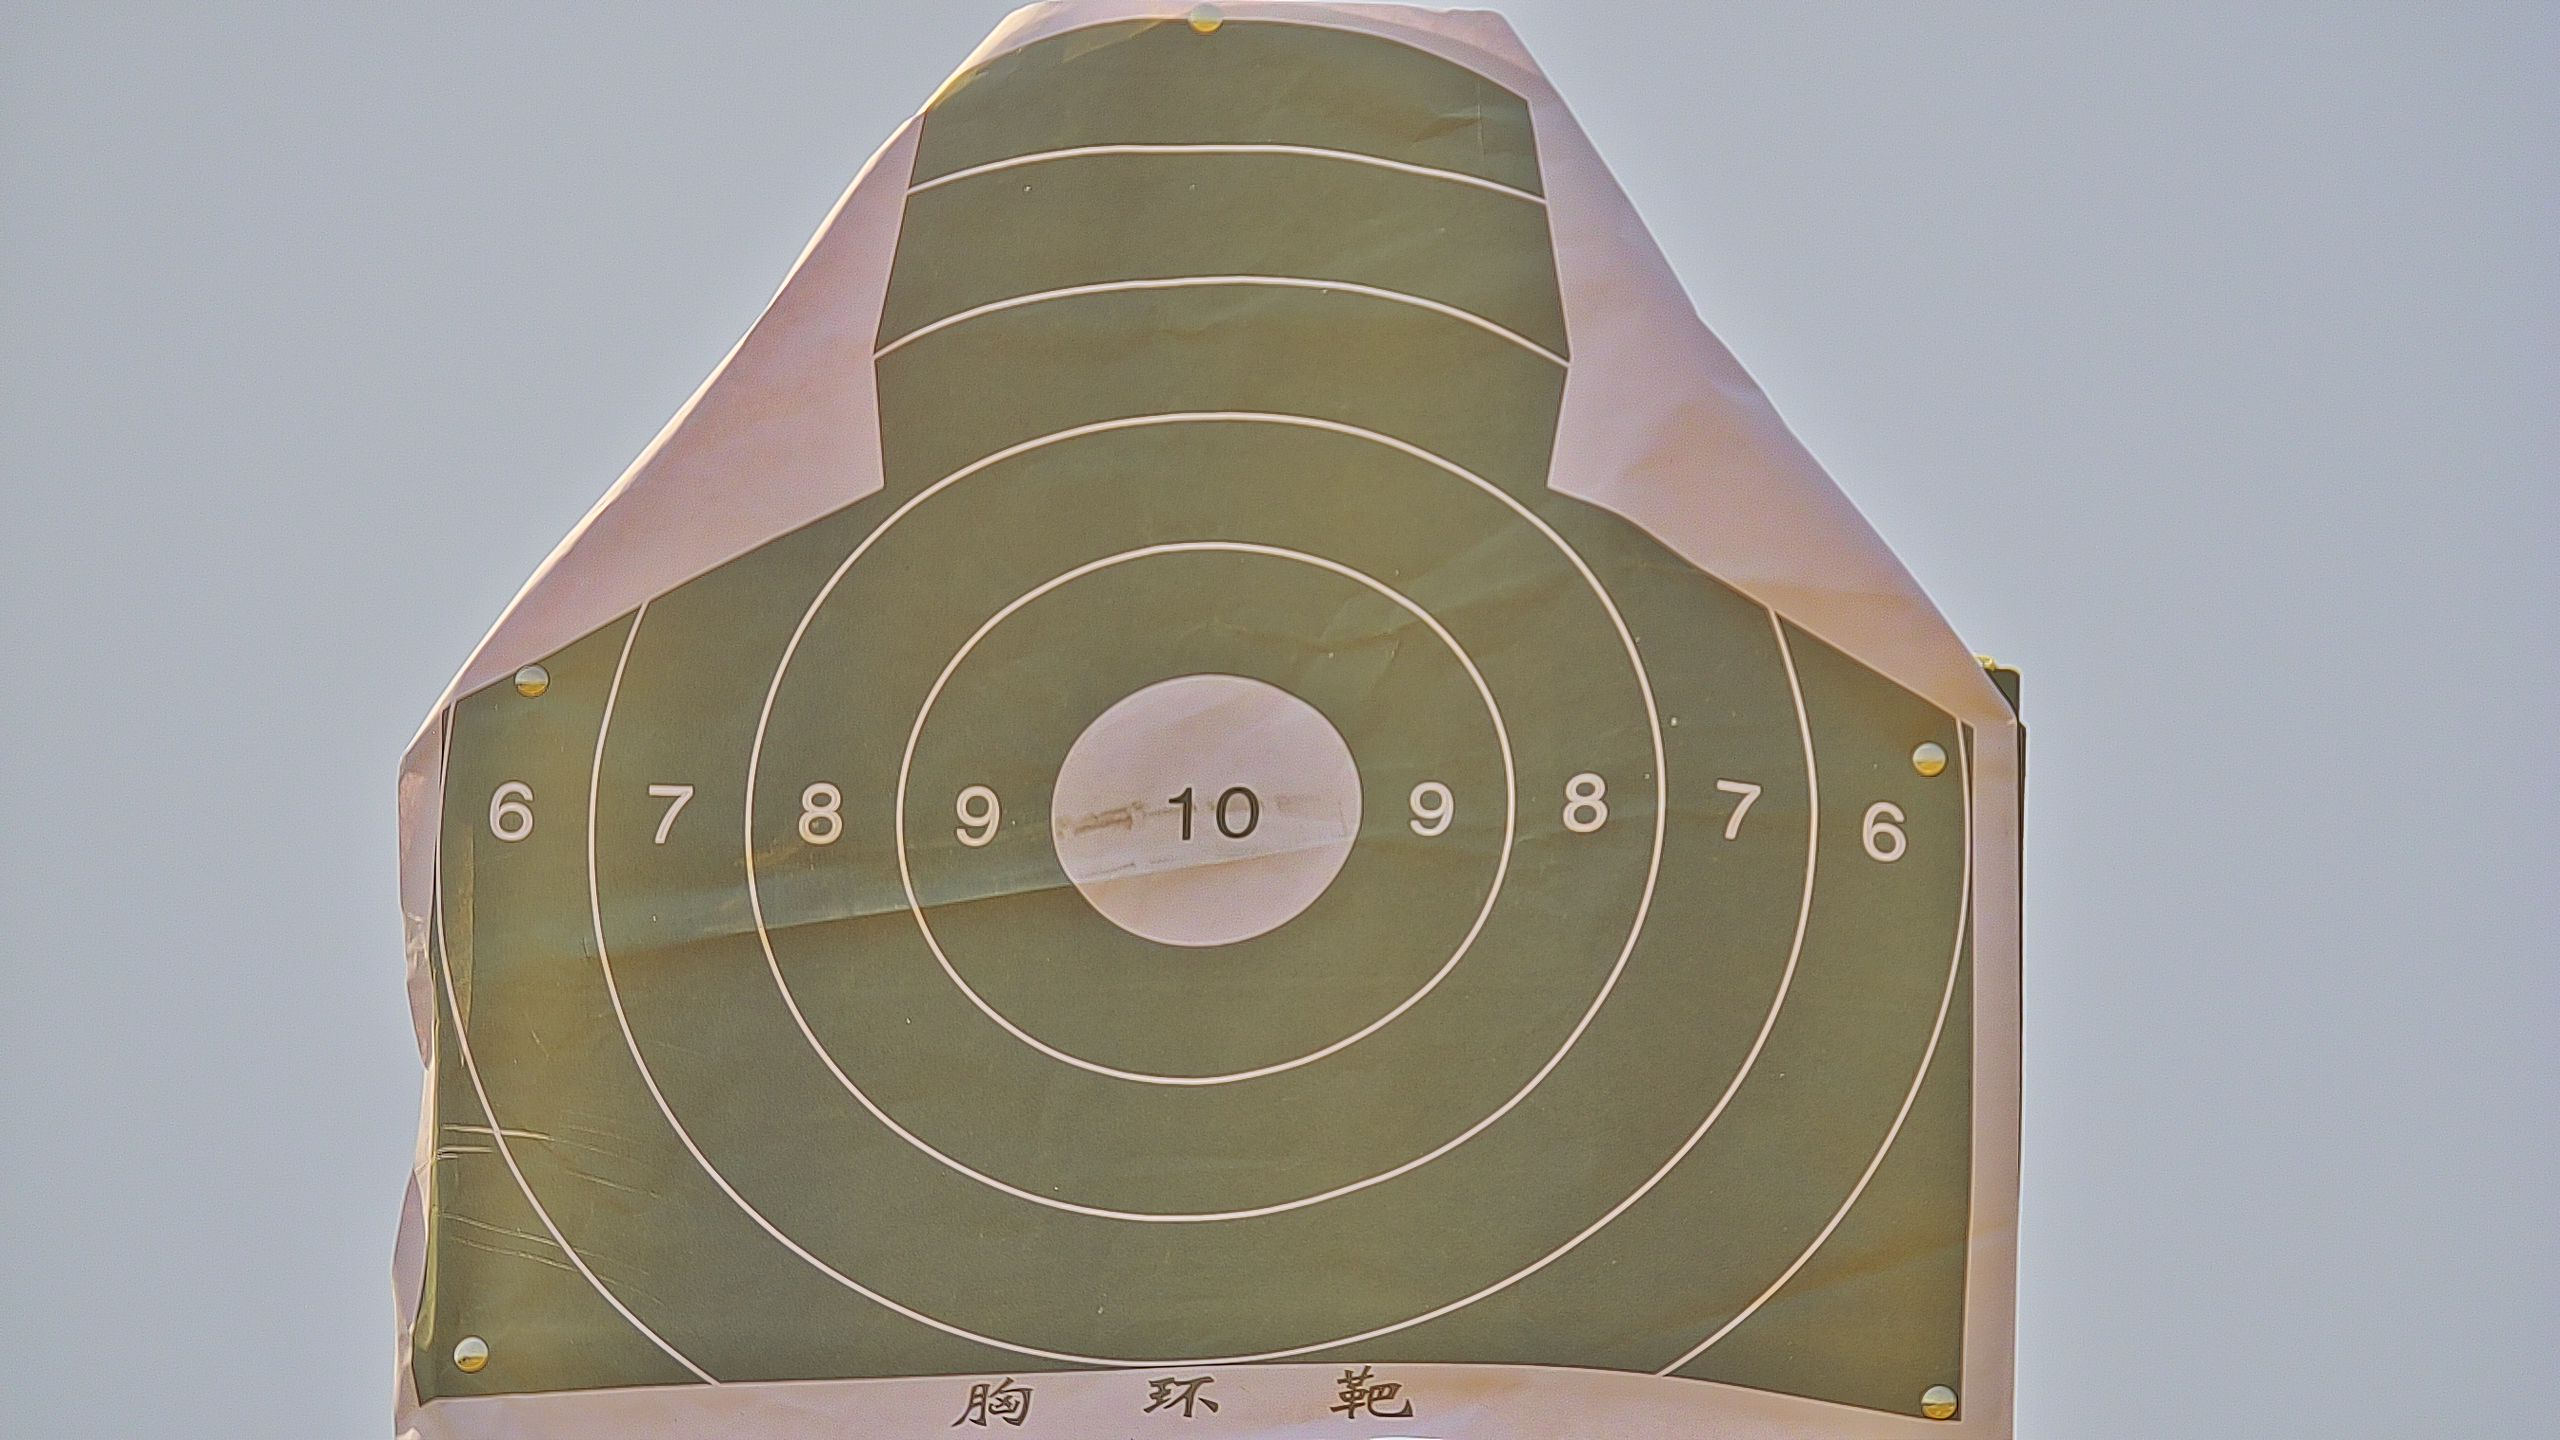target: (424, 26, 1990, 1440)
ten: (1046, 672, 1361, 949)
